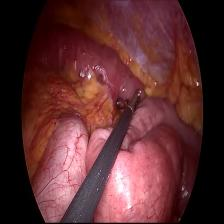Grasper: (115, 87, 148, 117)
